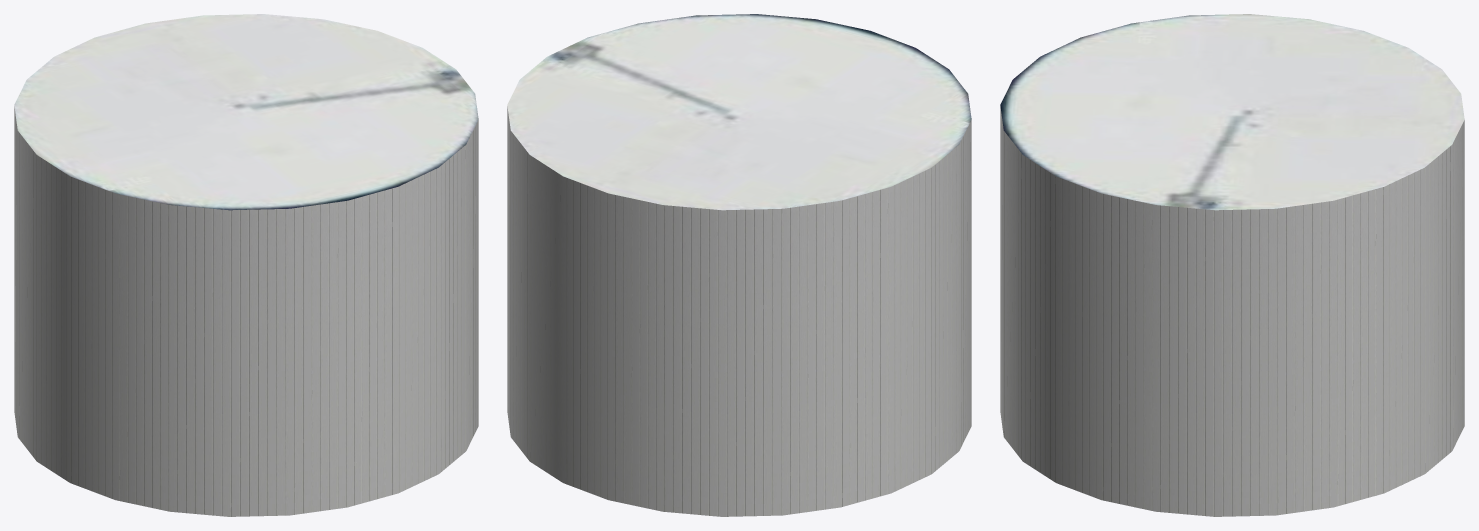
The model's file is icetop_tank.obj.
3 renders of one model, left to right at view 1: azimuth 30°, elevation 25°; view 2: azimuth 150°, elevation 25°; view 3: azimuth 270°, elevation 25°, orthographic.
Parts seen in each view (by area): view 1: Mesh1 Model; view 2: Mesh1 Model; view 3: Mesh1 Model.
Boxes of the visible parts, bbox=[...] form: Mesh1 Model: bbox=[14, 14, 478, 516]; Mesh1 Model: bbox=[507, 14, 971, 516]; Mesh1 Model: bbox=[1000, 14, 1464, 516].
Size of the model in its own units: 7.51 by 5.47 by 7.51.
2 materials, 2 textured.
